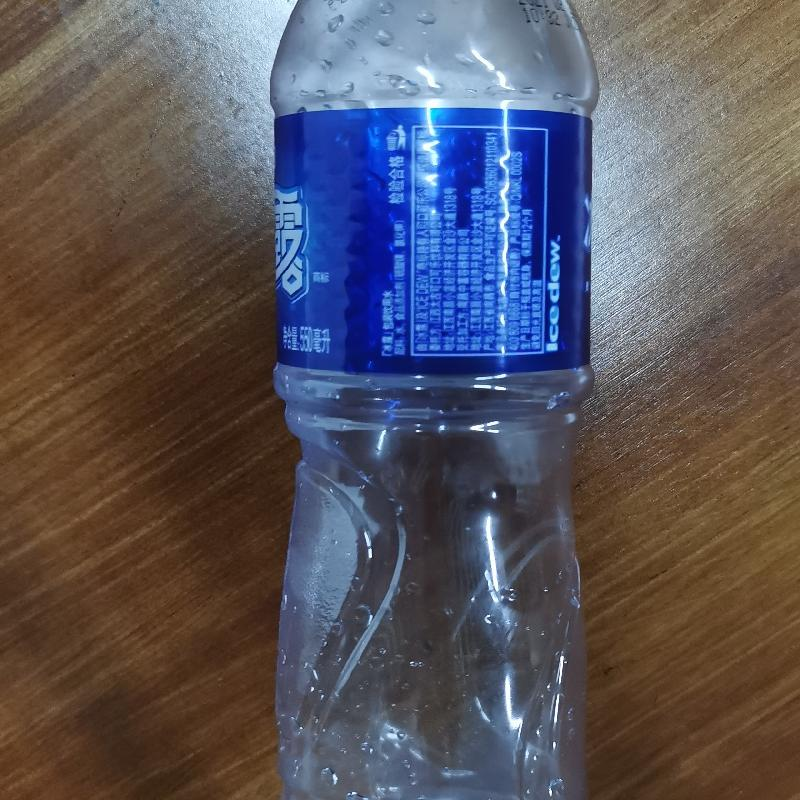bottles: (267, 2, 597, 799)
